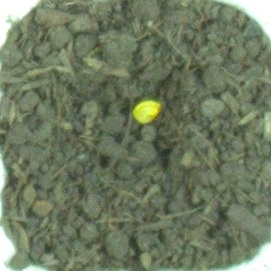pepper seed: (49, 37, 213, 162)
